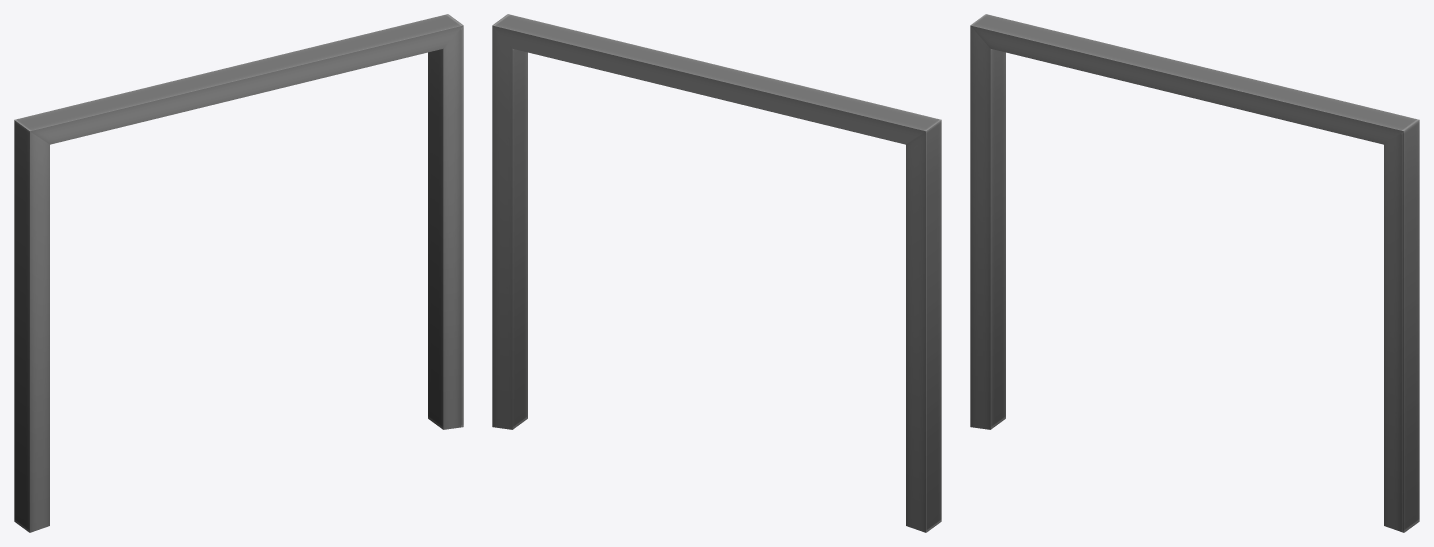
Rendered from DoorGoods.fbx.
3 views of the same model, side by side, from view 1: azimuth 30°, elevation 25°; view 2: azimuth 150°, elevation 25°; view 3: azimuth 330°, elevation 25° (orthographic).
Visible parts, largest first — view 1: DoorGoods; view 2: DoorGoods; view 3: DoorGoods.
Boxes of the visible parts, x1,y1,x2,y2 form: DoorGoods: (14, 14, 463, 532); DoorGoods: (492, 14, 941, 532); DoorGoods: (970, 14, 1419, 532).
Size of the model in its own units: 65.8 by 58.2 by 4.12.
Materials: 1 (1 with a texture image).
